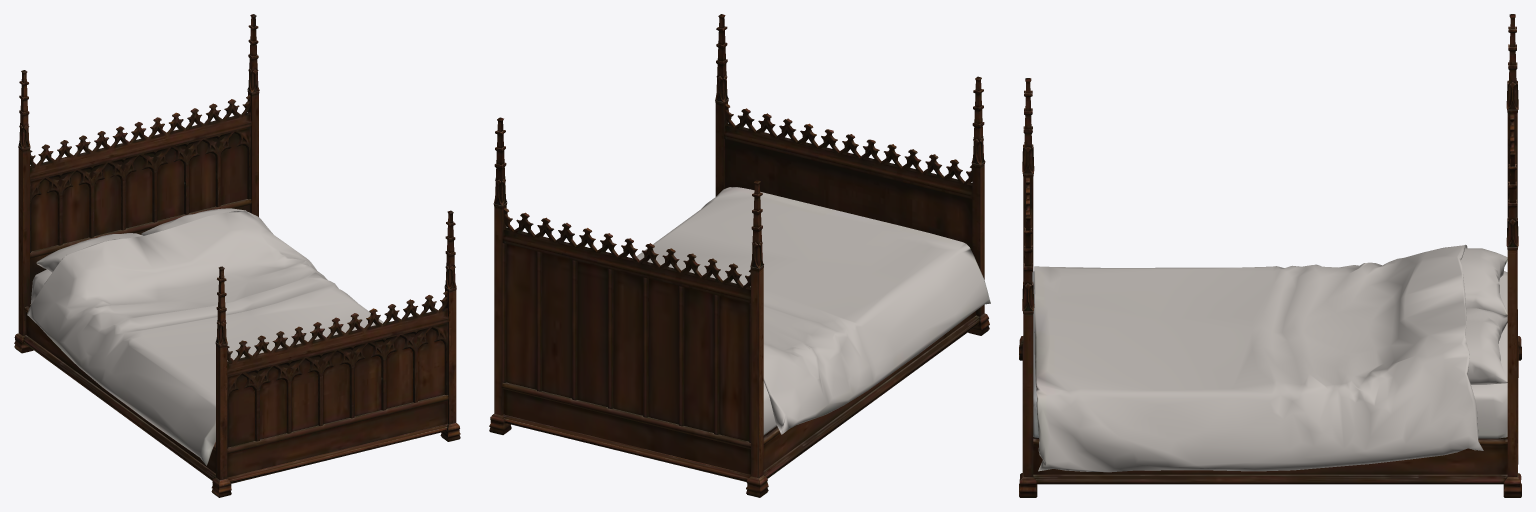
Rendered from gothicbed_01.glb.
3 renders of one model, left to right at view 1: azimuth 30°, elevation 25°; view 2: azimuth 150°, elevation 25°; view 3: azimuth 270°, elevation 25°, orthographic. The views are drawn at different scales.
Visible parts, largest first — view 1: GothicBed_01; view 2: GothicBed_01; view 3: GothicBed_01.
Part boxes in pixels (left/top/right/bottom): GothicBed_01: left=14, top=14, right=460, bottom=497; GothicBed_01: left=489, top=14, right=990, bottom=497; GothicBed_01: left=1019, top=14, right=1521, bottom=497.
Size of the model in its own units: 1.49 by 1.53 by 2.04.
1 material, 1 textured.
